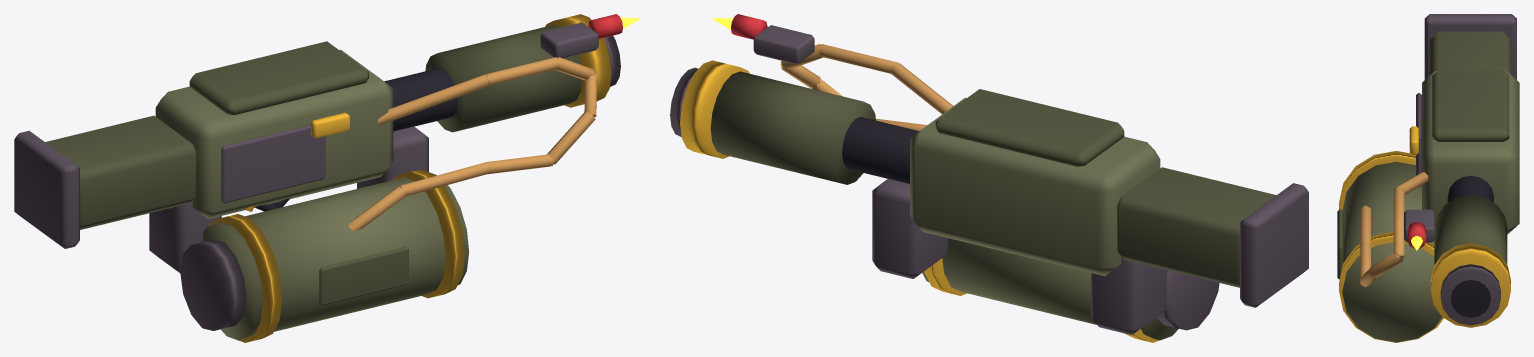
3 views of the same model, side by side, from view 1: azimuth 30°, elevation 25°; view 2: azimuth 150°, elevation 25°; view 3: azimuth 270°, elevation 25° (orthographic). The views are drawn at different scales.
Visible parts, largest first — view 1: body, static_oliveSeam, static_asphalt, static_schoolBusYellow, static_brass, static_uiDark, pilot_light; view 2: static_oliveSeam, body, static_asphalt, static_schoolBusYellow, static_uiDark, static_brass, pilot_light; view 3: body, static_oliveSeam, static_asphalt, static_schoolBusYellow, static_brass, static_uiDark, pilot_light.
Boxes of the visible parts, x1=… form: body: x1=155, y1=49, x2=469, y2=340; static_oliveSeam: x1=45, y1=24, x2=582, y2=305; static_asphalt: x1=14, y1=22, x2=620, y2=330; static_schoolBusYellow: x1=209, y1=14, x2=611, y2=342; static_brass: x1=347, y1=57, x2=596, y2=230; static_uiDark: x1=255, y1=68, x2=457, y2=211; pilot_light: x1=588, y1=14, x2=622, y2=38; static_oliveSeam: x1=710, y1=71, x2=1276, y2=287; body: x1=910, y1=97, x2=1178, y2=340; static_asphalt: x1=670, y1=25, x2=1308, y2=334; static_schoolBusYellow: x1=680, y1=60, x2=1159, y2=342; static_uiDark: x1=842, y1=117, x2=919, y2=183; static_brass: x1=780, y1=44, x2=953, y2=130; pilot_light: x1=731, y1=14, x2=767, y2=39; body: x1=1342, y1=71, x2=1519, y2=342; static_oliveSeam: x1=1337, y1=31, x2=1511, y2=279; static_asphalt: x1=1404, y1=14, x2=1516, y2=325; static_schoolBusYellow: x1=1339, y1=126, x2=1510, y2=342; static_brass: x1=1360, y1=172, x2=1428, y2=286; static_uiDark: x1=1447, y1=175, x2=1493, y2=317; pilot_light: x1=1407, y1=222, x2=1426, y2=248.
Size of the model in its own units: 1.16 by 0.4221 by 0.355.
